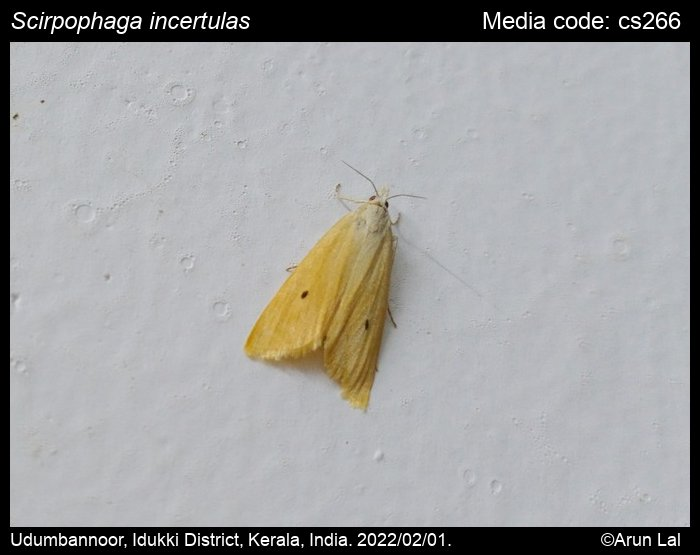Crambidae: (242, 158, 430, 413)
